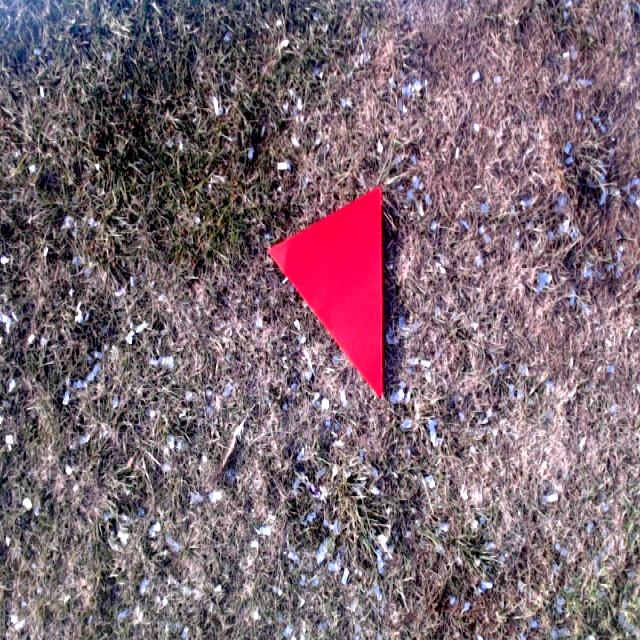red_triangle: (269, 187, 383, 401)
